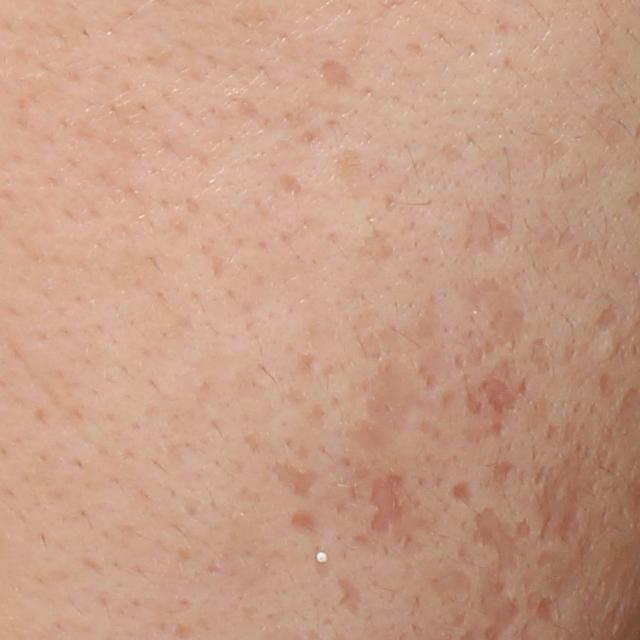atrophic_scar: (342, 355, 426, 447), (452, 290, 529, 370), (540, 446, 601, 545), (533, 549, 585, 624), (365, 469, 412, 536), (462, 208, 521, 255), (266, 459, 318, 500), (428, 565, 471, 605), (354, 226, 396, 266), (478, 372, 517, 414), (318, 56, 360, 89), (486, 459, 521, 495), (531, 333, 558, 376), (337, 580, 364, 618), (588, 302, 622, 331), (293, 351, 324, 378), (452, 481, 475, 509), (292, 509, 316, 534), (597, 369, 616, 398), (276, 174, 302, 195), (449, 609, 467, 627)
